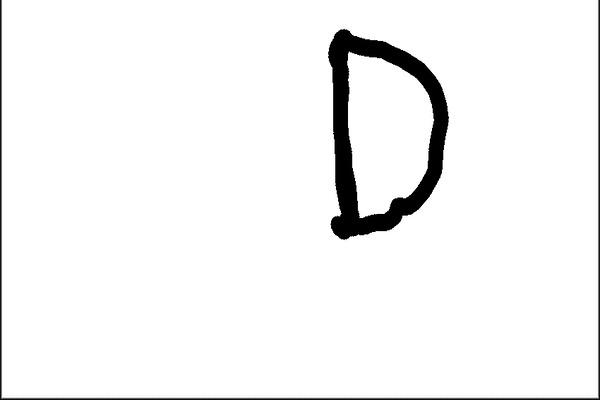D: (311, 21, 460, 253)
